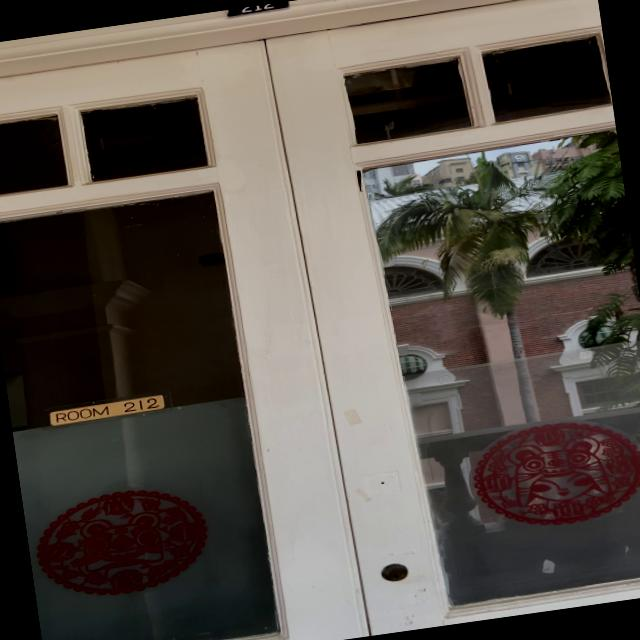room212Window: (34, 389, 180, 435)
